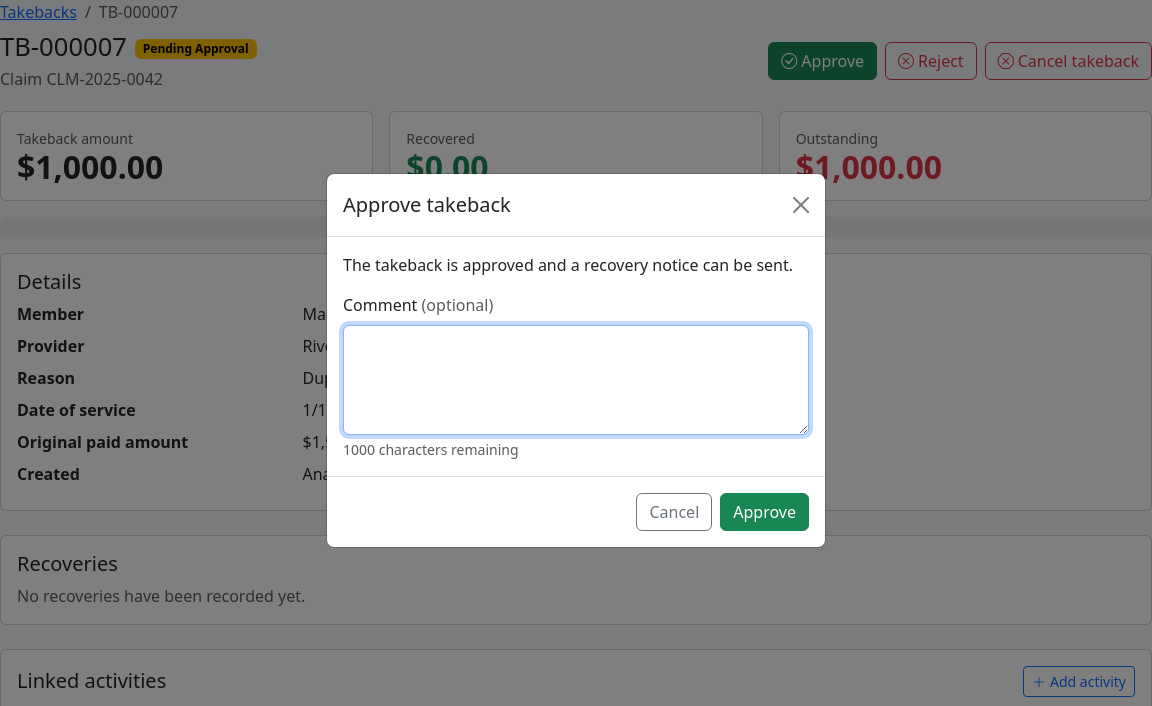
Test: TakebackDetailComponent › Approve › approves without a comment
Click the button "Approve".
click(765, 512)  # box left=720, top=492, right=809, bottom=530
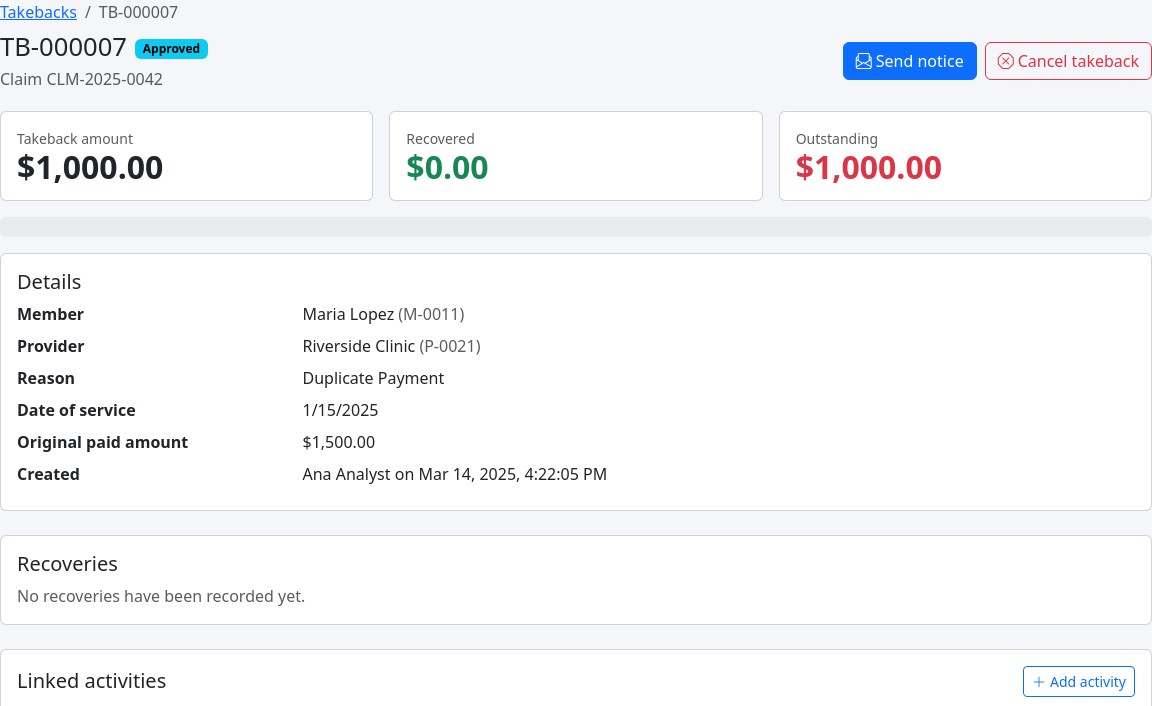
expect the text with class "badge" reads "Approved": met, box left=143, top=40, right=200, bottom=57
